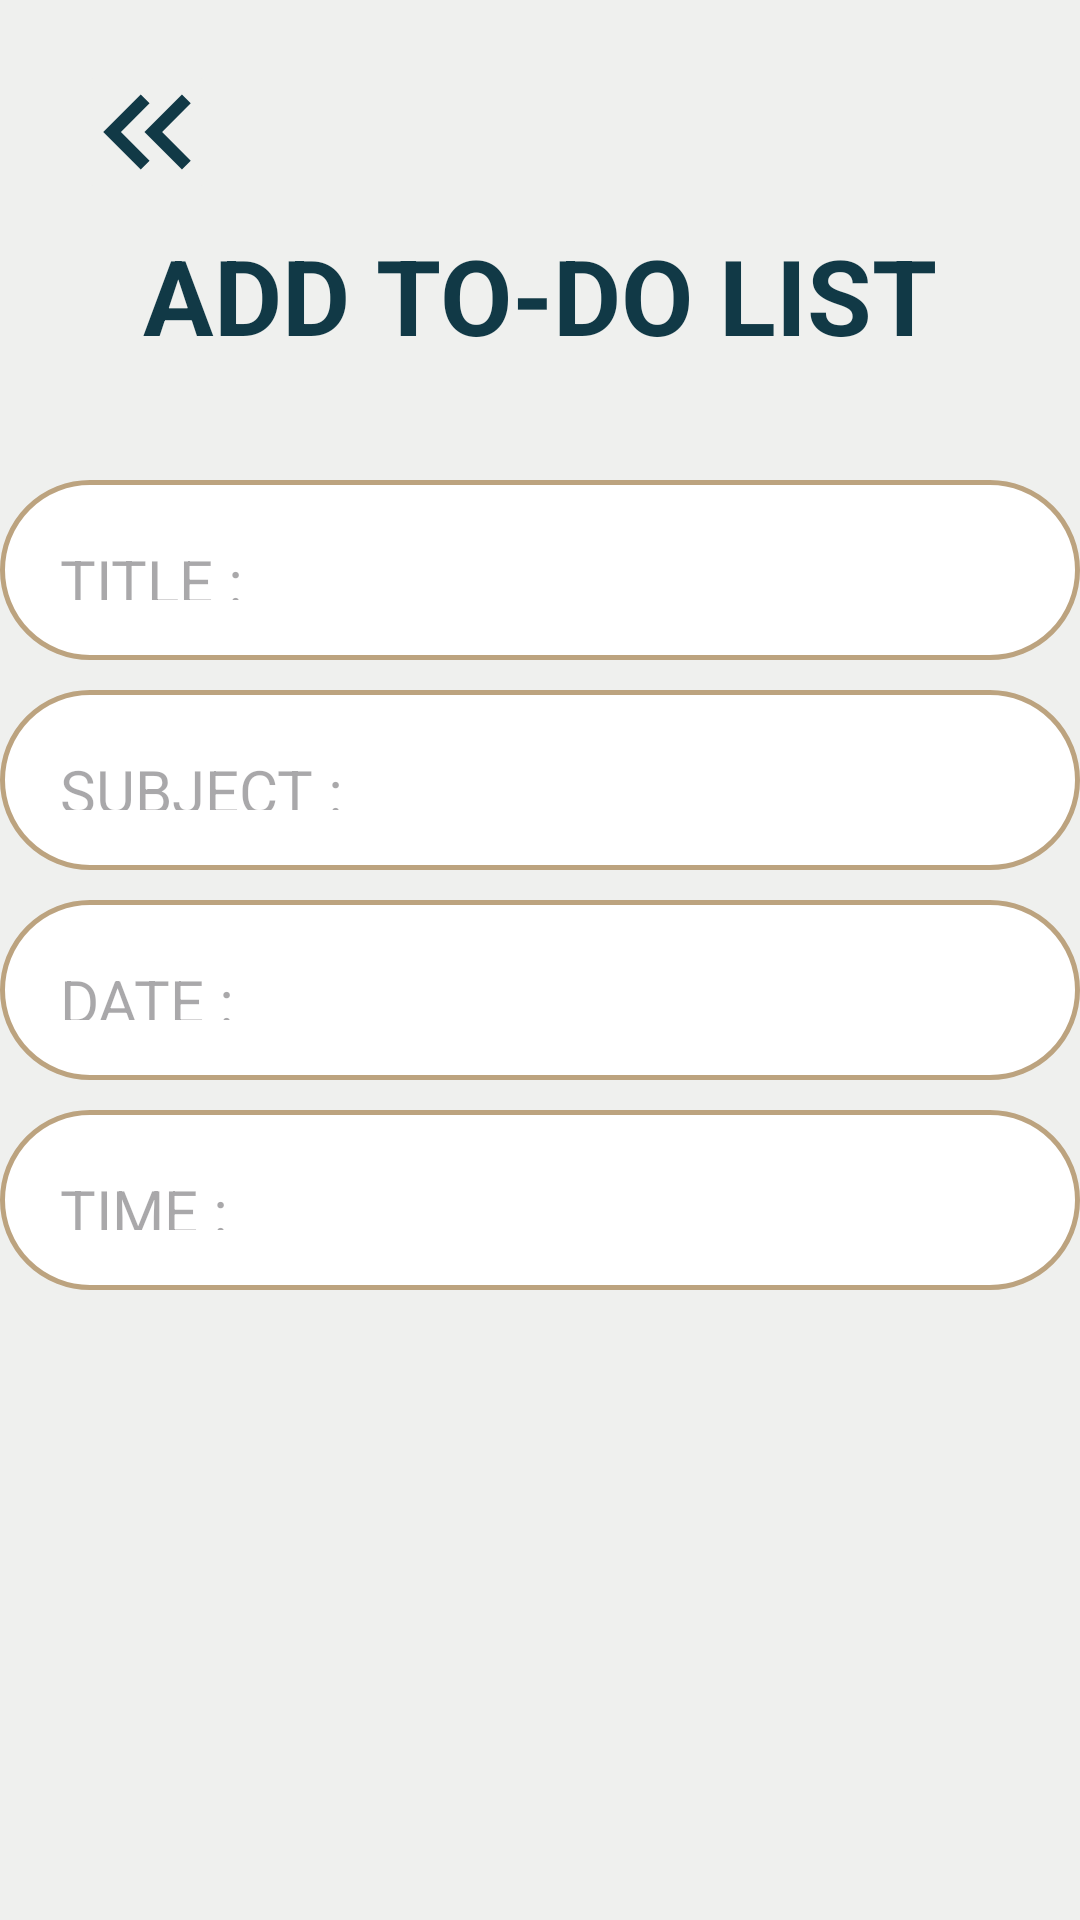

Where icons sit on this 1080*1920 app screen, as (left=x1, top=y1, right=x2, bottom=y2):
Back to Homepage: (left=103, top=94, right=191, bottom=170)
